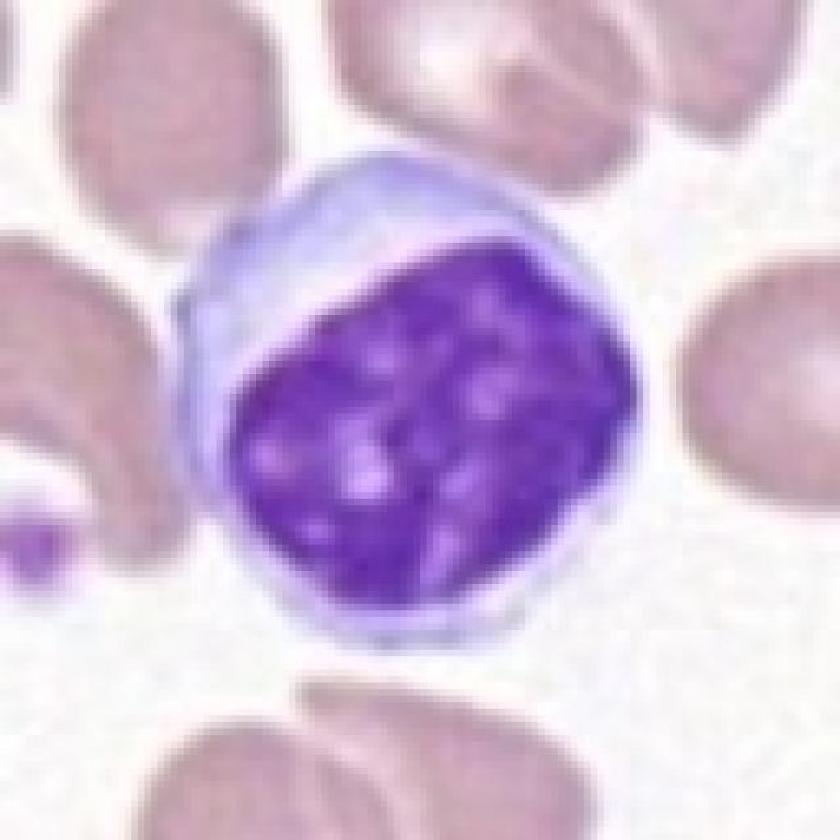lymphocyte: (157, 141, 655, 664)
